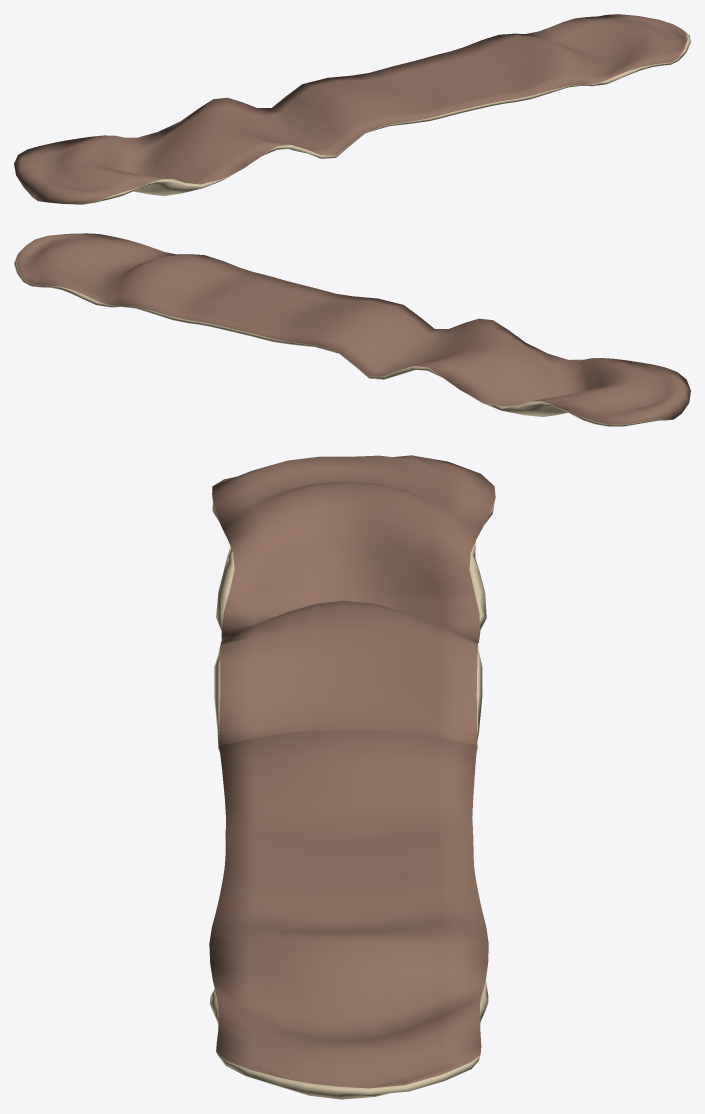
File: cascaraPapa.004.fbx
The picture shows the model from 3 angles, top to bottom: view 1: azimuth 30°, elevation 25°; view 2: azimuth 150°, elevation 25°; view 3: azimuth 270°, elevation 25°; orthographic projection. The views are drawn at different scales.
Visible parts, largest first — view 1: cascaraPapa.004; view 2: cascaraPapa.004; view 3: cascaraPapa.004.
Part boxes in pixels (x1,y1,x2,y2): cascaraPapa.004: (14,14,690,204); cascaraPapa.004: (14,233,690,426); cascaraPapa.004: (209,455,495,1099).
Size of the model in its own units: 453 by 29.39 by 86.56.
